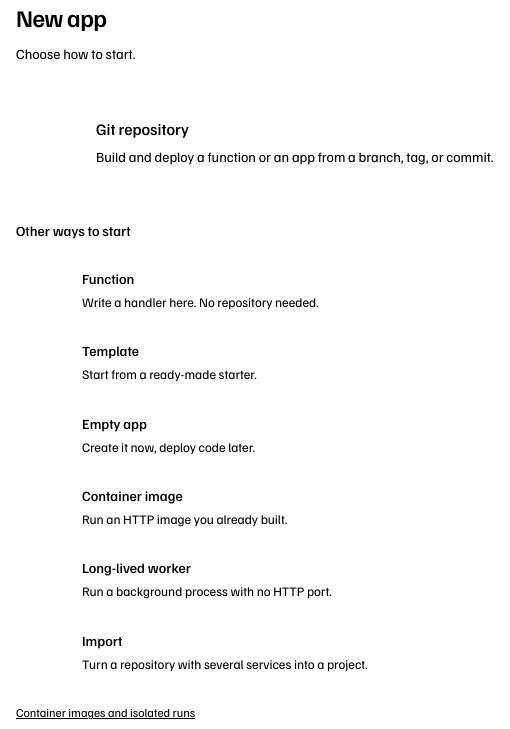
Test: NewAppWizard source picker › keeps the container images and isolated runs disclosure
The image size is (510, 729).
Step 1. Click the button "Container images and isolated runs" → (106, 714), box [16,704,195,723]
(page scrolled)
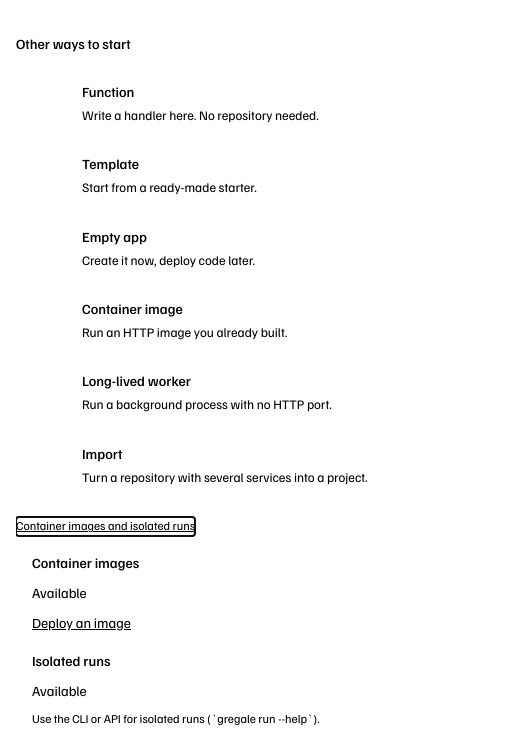
Now the button "Container images and isolated runs" is expanded, box [16,517,195,536]
Now the heading "Isolated runs" is shown, box [32,652,110,669]
